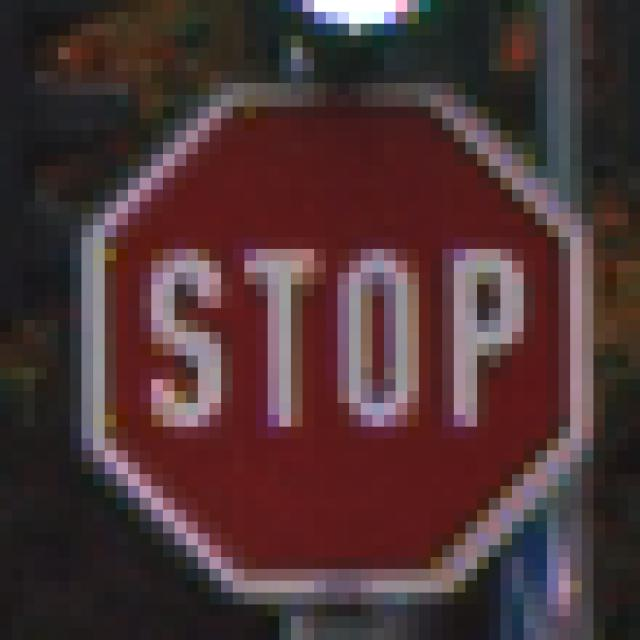STOP: (71, 72, 571, 582)
